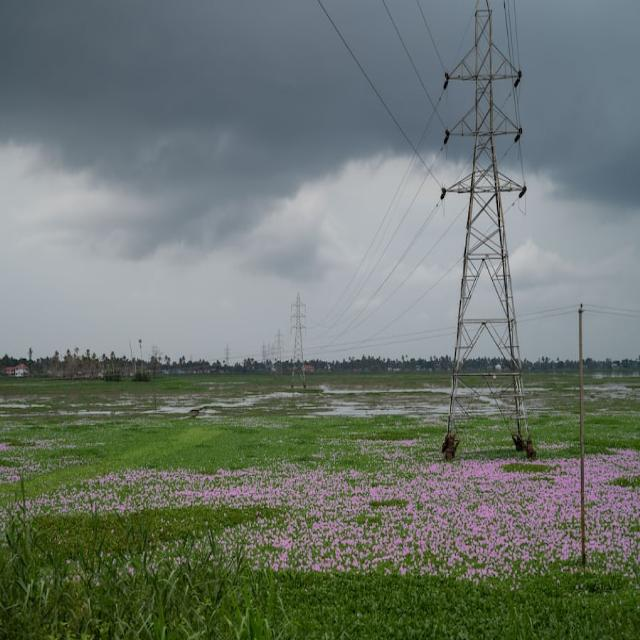transmission tower: (423, 0, 580, 485), (283, 290, 318, 394)
